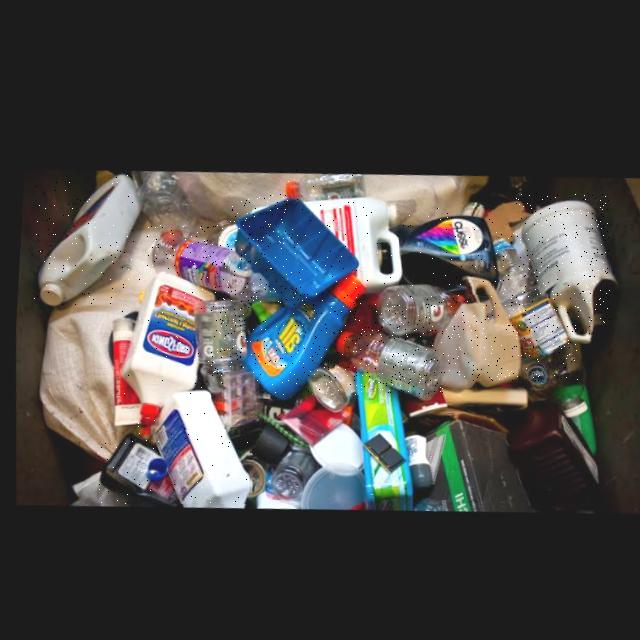plastic: (243, 266, 361, 395), (120, 269, 211, 429), (488, 229, 578, 381), (230, 194, 355, 302), (34, 172, 135, 305), (517, 193, 610, 335), (148, 387, 251, 504), (147, 225, 286, 299), (427, 271, 518, 381), (299, 192, 399, 286), (386, 207, 493, 294), (334, 324, 443, 394), (190, 294, 245, 407), (98, 432, 180, 504), (375, 279, 462, 329), (281, 169, 359, 194), (224, 368, 253, 426)
